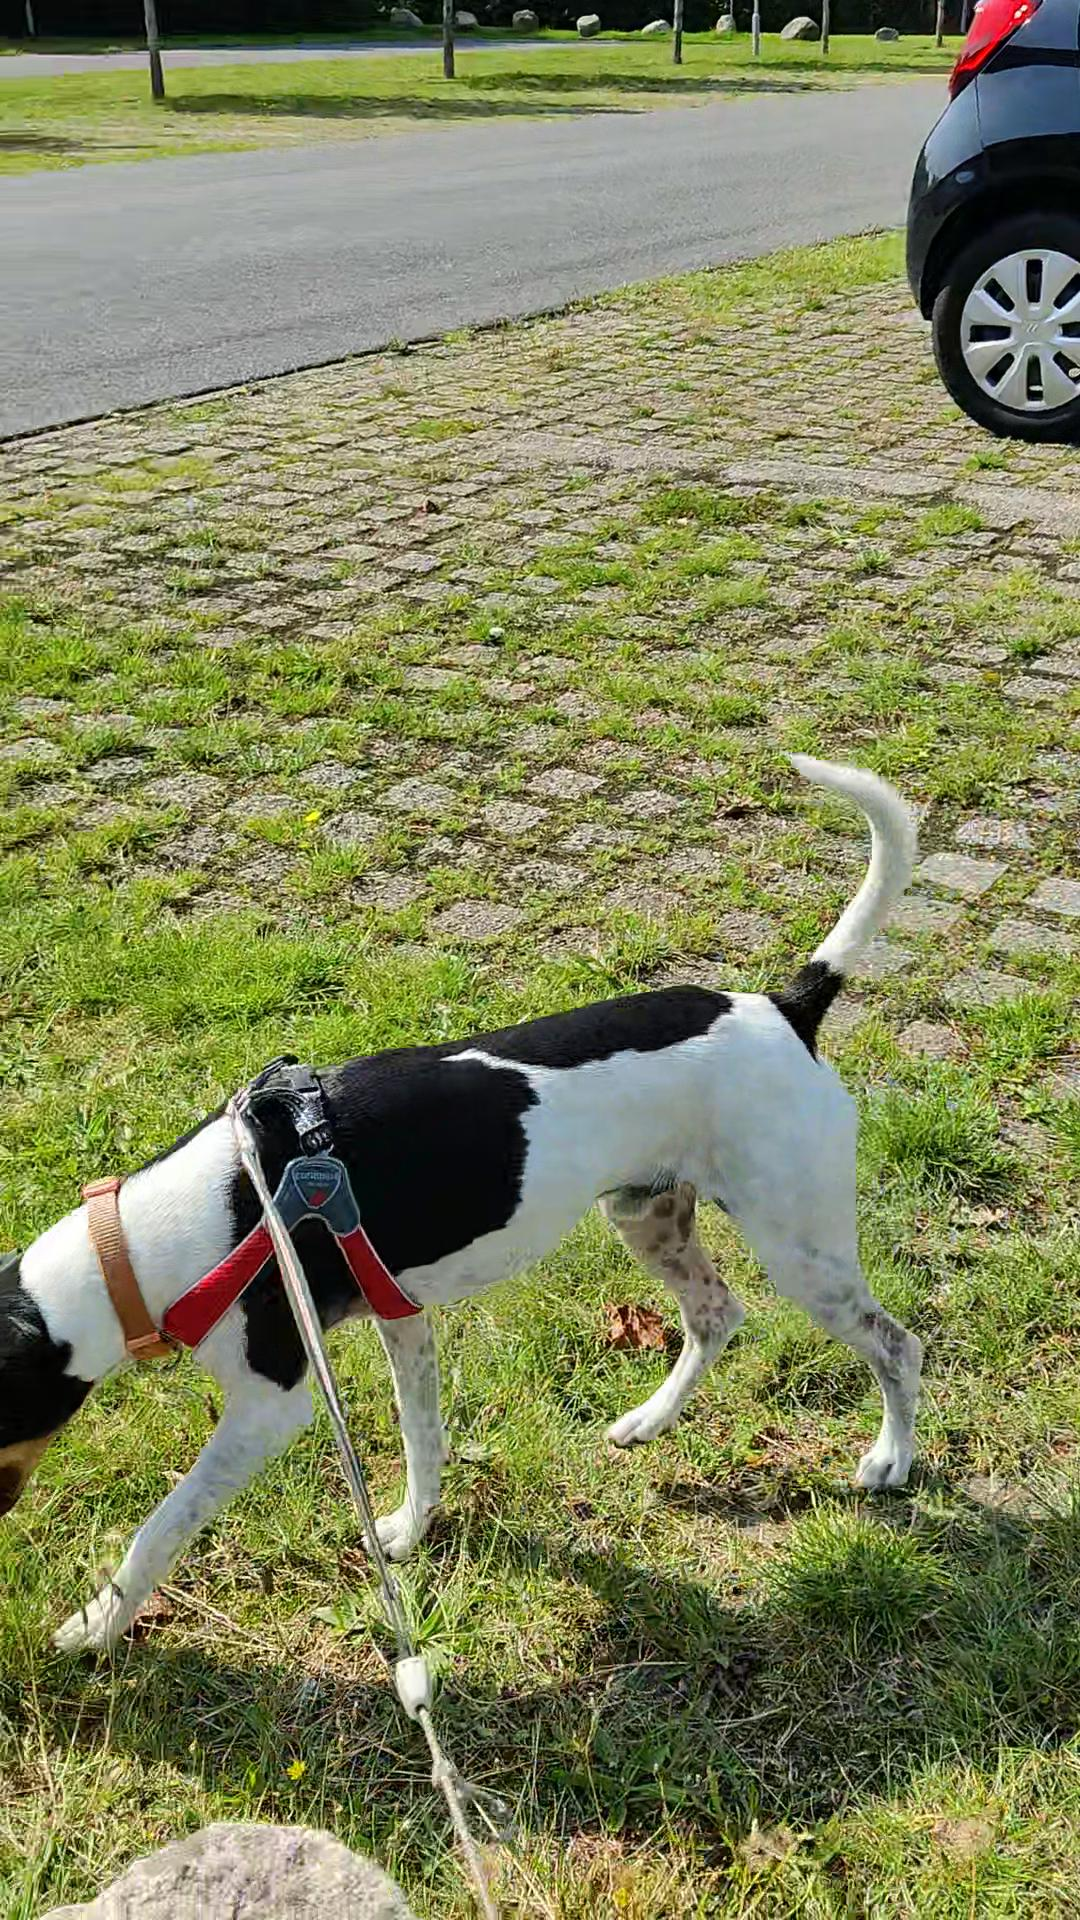Dog: (0, 738, 934, 1665)
